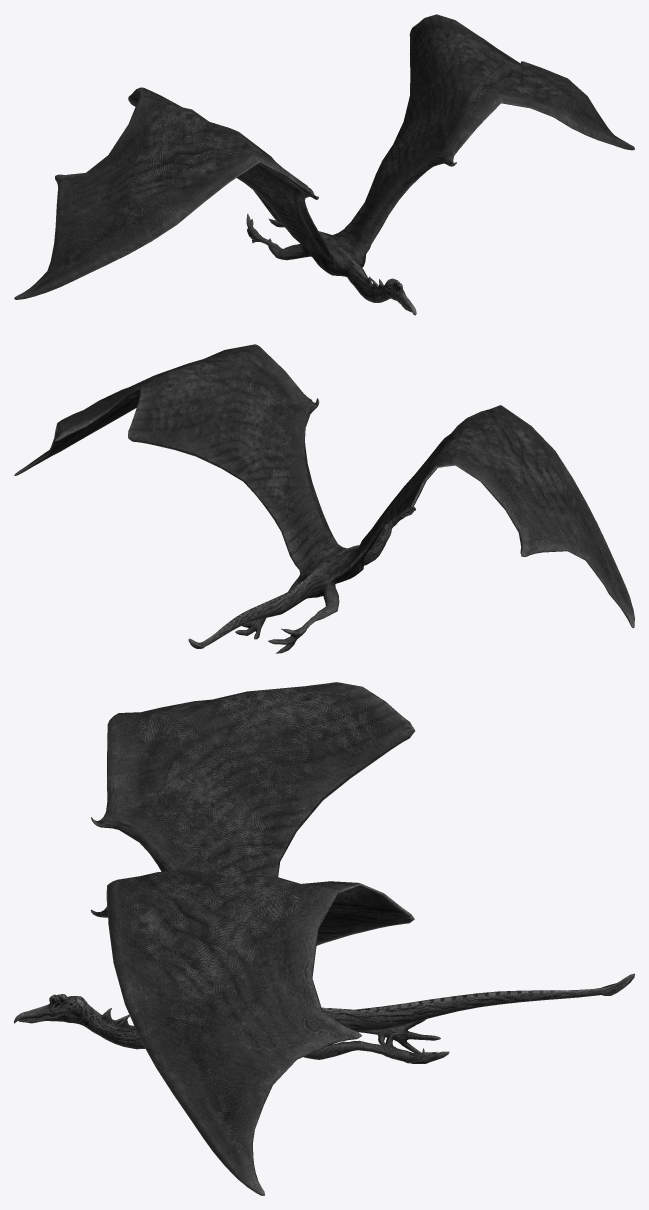
File: Fellbeast_Animate_Flying_7.obj
The picture shows the model from 3 angles, top to bottom: view 1: azimuth 30°, elevation 25°; view 2: azimuth 150°, elevation 25°; view 3: azimuth 270°, elevation 25°; orthographic projection. The views are drawn at different scales.
Visible parts, largest first — view 1: Fellbeast; view 2: Fellbeast; view 3: Fellbeast.
Part boxes in pixels (x1,y1,x2,y2): Fellbeast: (14, 14, 634, 315); Fellbeast: (14, 344, 634, 653); Fellbeast: (14, 682, 634, 1195).
Bounding box in the file's own units: 6.91 × 2.18 × 4.36.
